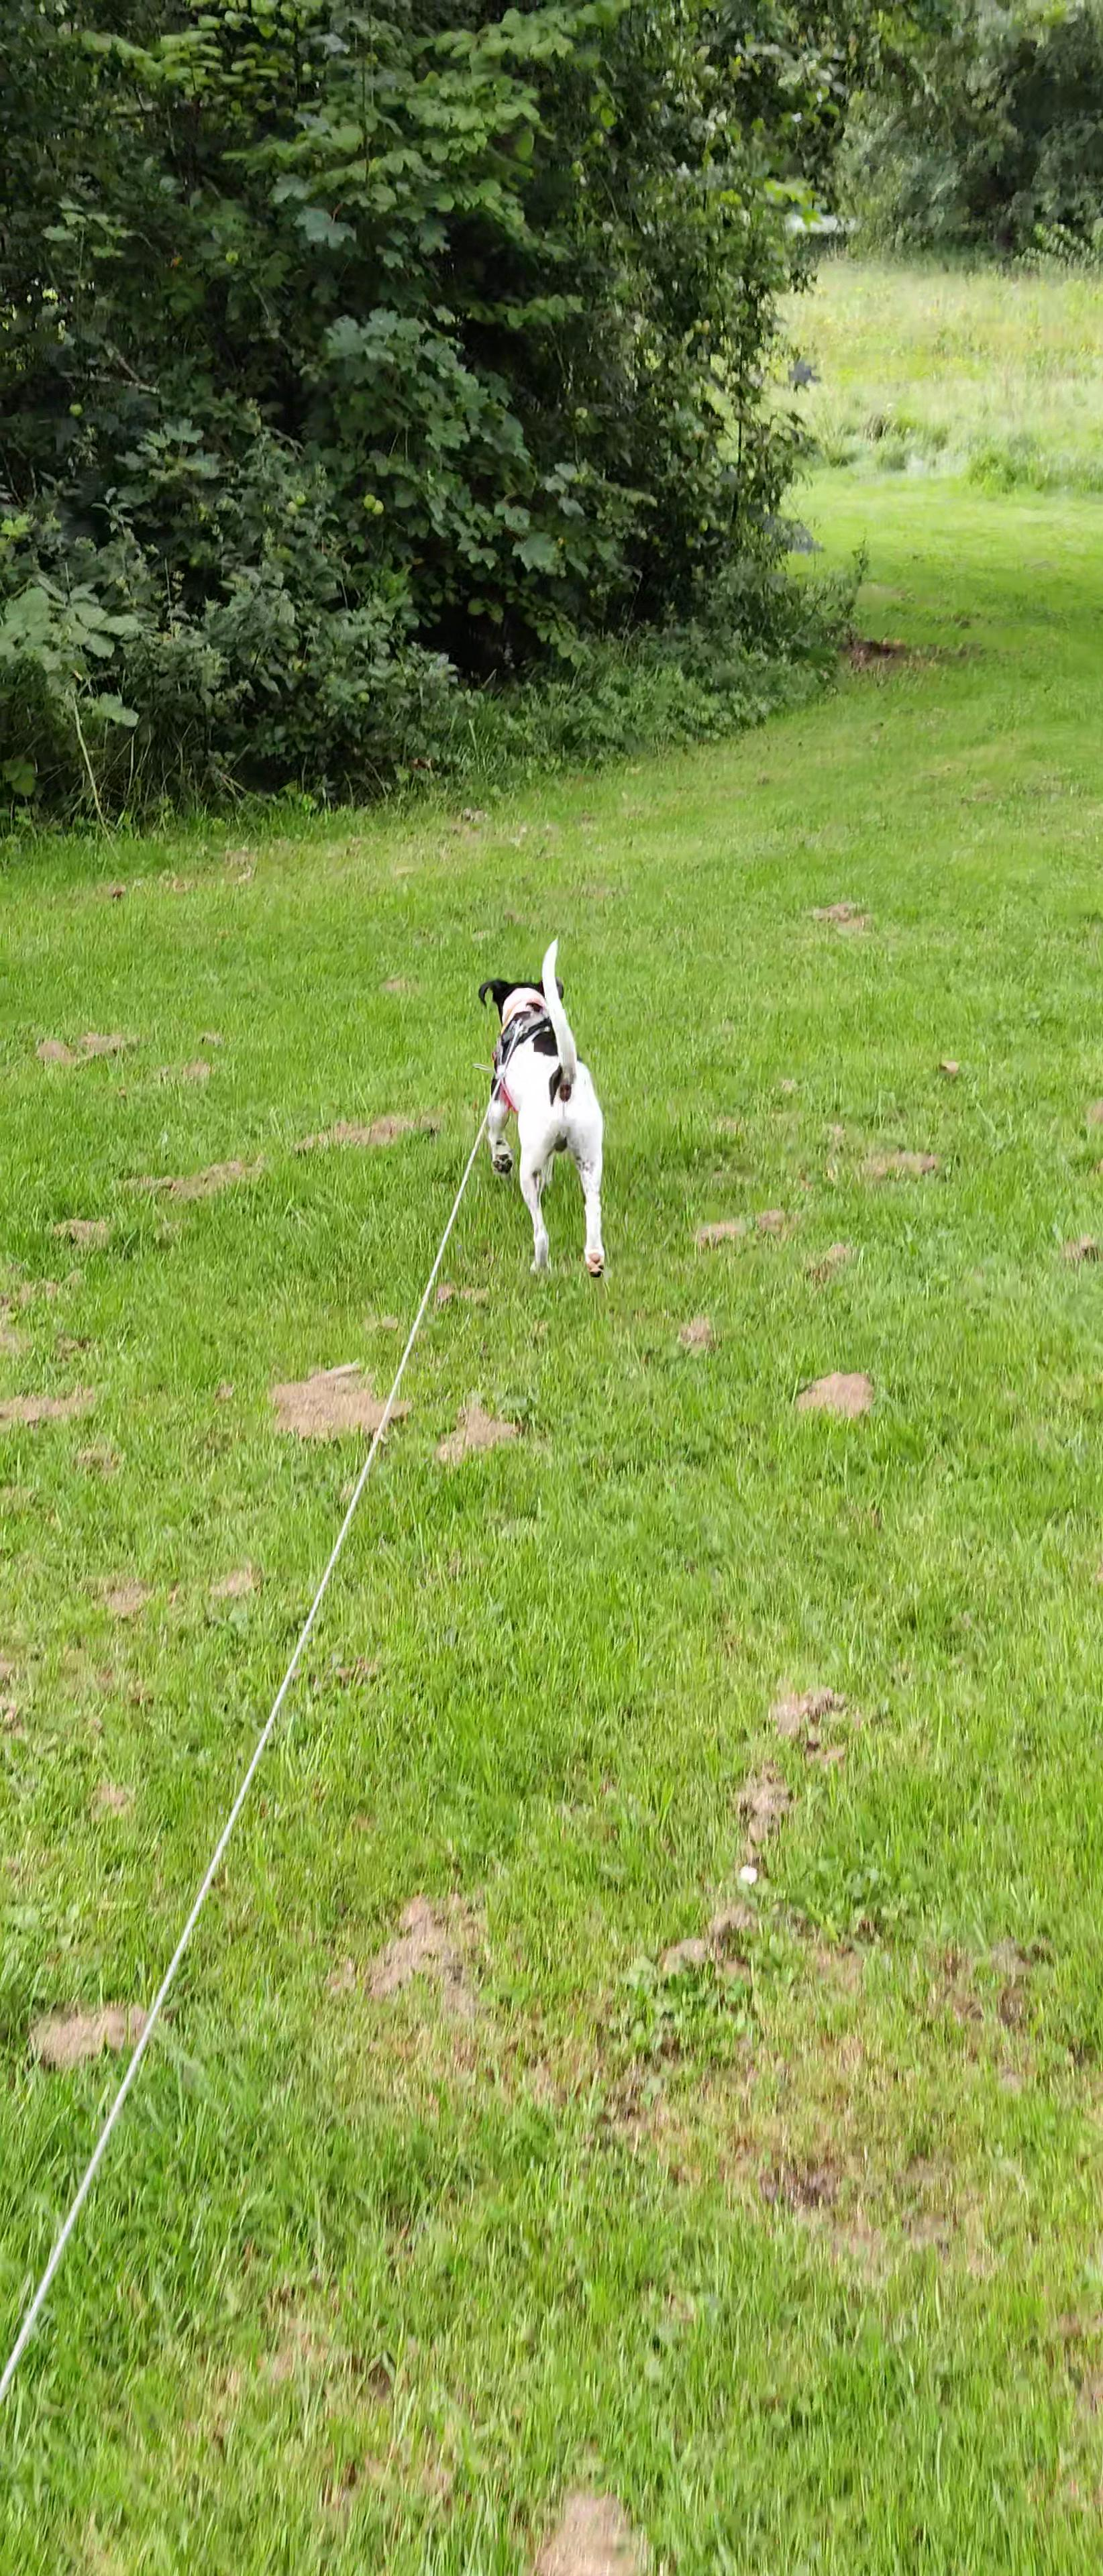Dog: (472, 928, 613, 1281)
